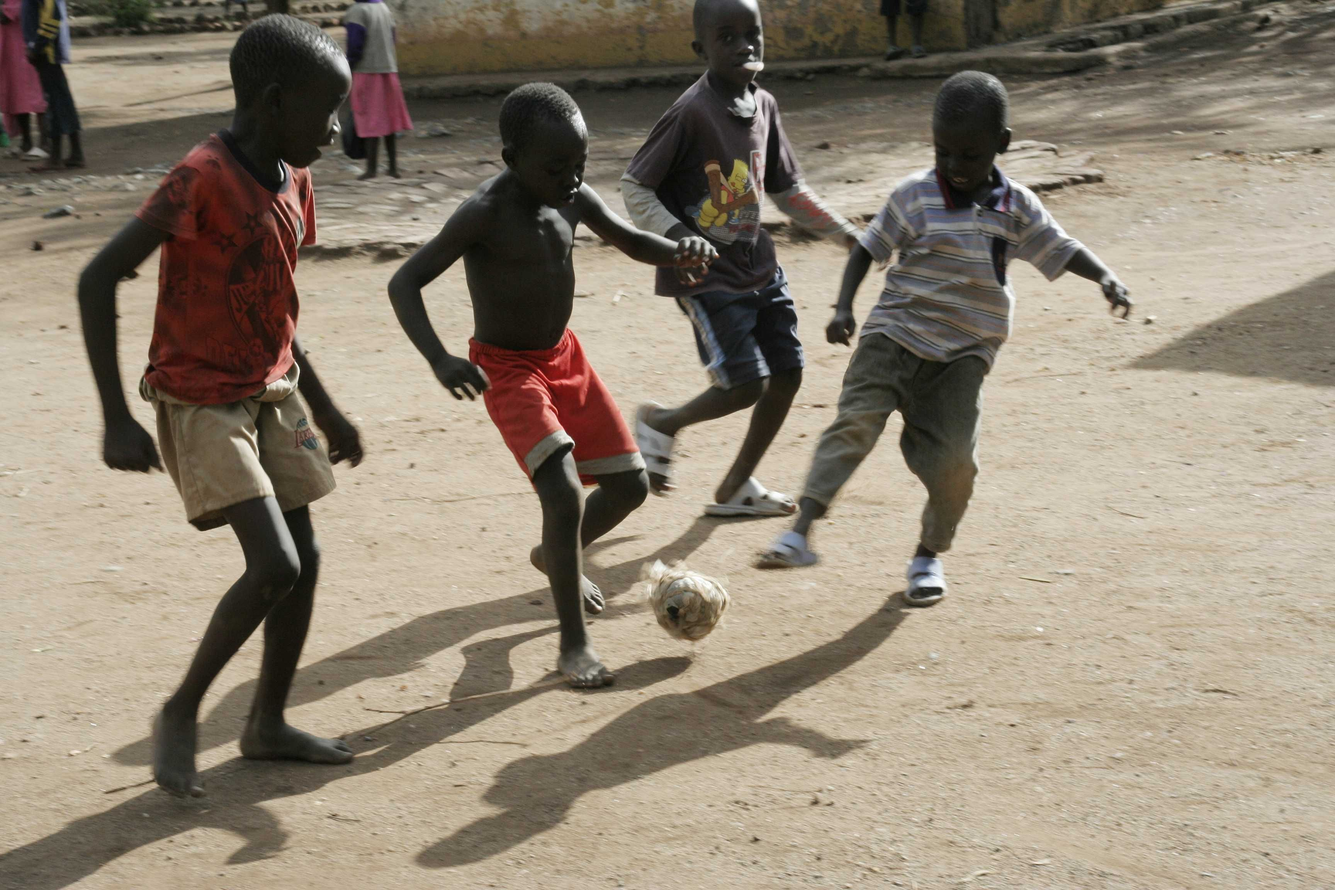Person: (69, 22, 379, 814), (375, 61, 691, 704), (804, 67, 1133, 628), (611, 5, 858, 537)
